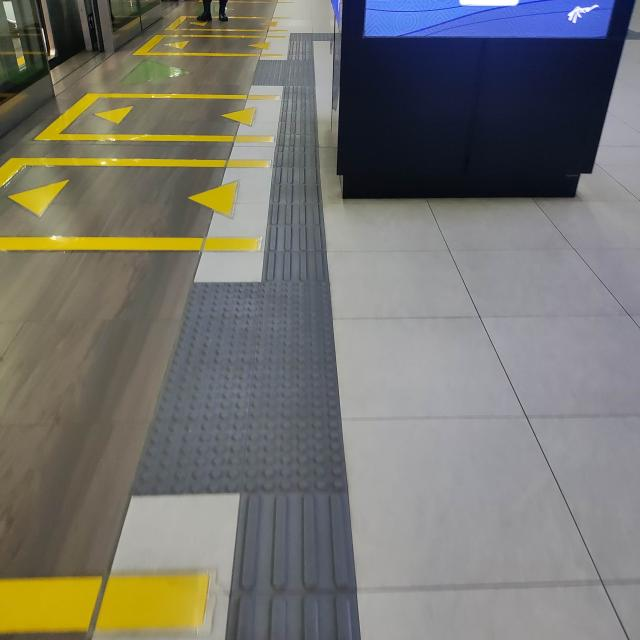lurus: (238, 481, 353, 640), (253, 74, 326, 282)
